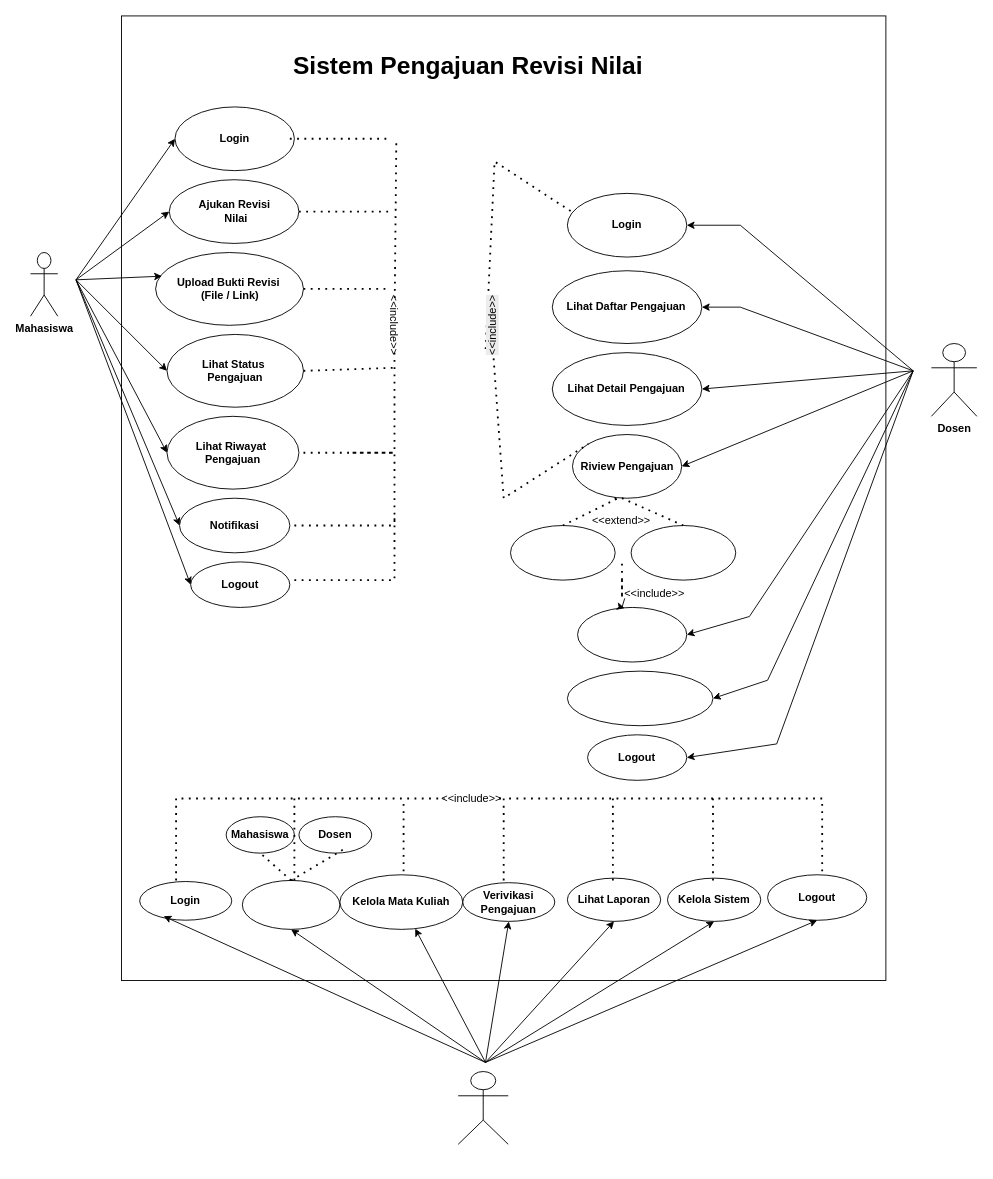
The diagram is 993 pixels wide and 1179 high, and some of its shapes have lost their labels. The shapes that lost their labels are listed below. From the top down, each one's centre as x and y in pixels, then its label:
At pixel 562 552: "Setuju Revisi".
At pixel 683 552: "Tolak Revisi".
At pixel 632 634: "Berikan Catatan".
At pixel 639 698: "Notifikasi ke Mahasiswa".
At pixel 290 904: "Kelola User".
At pixel 482 1107: "Admin".
